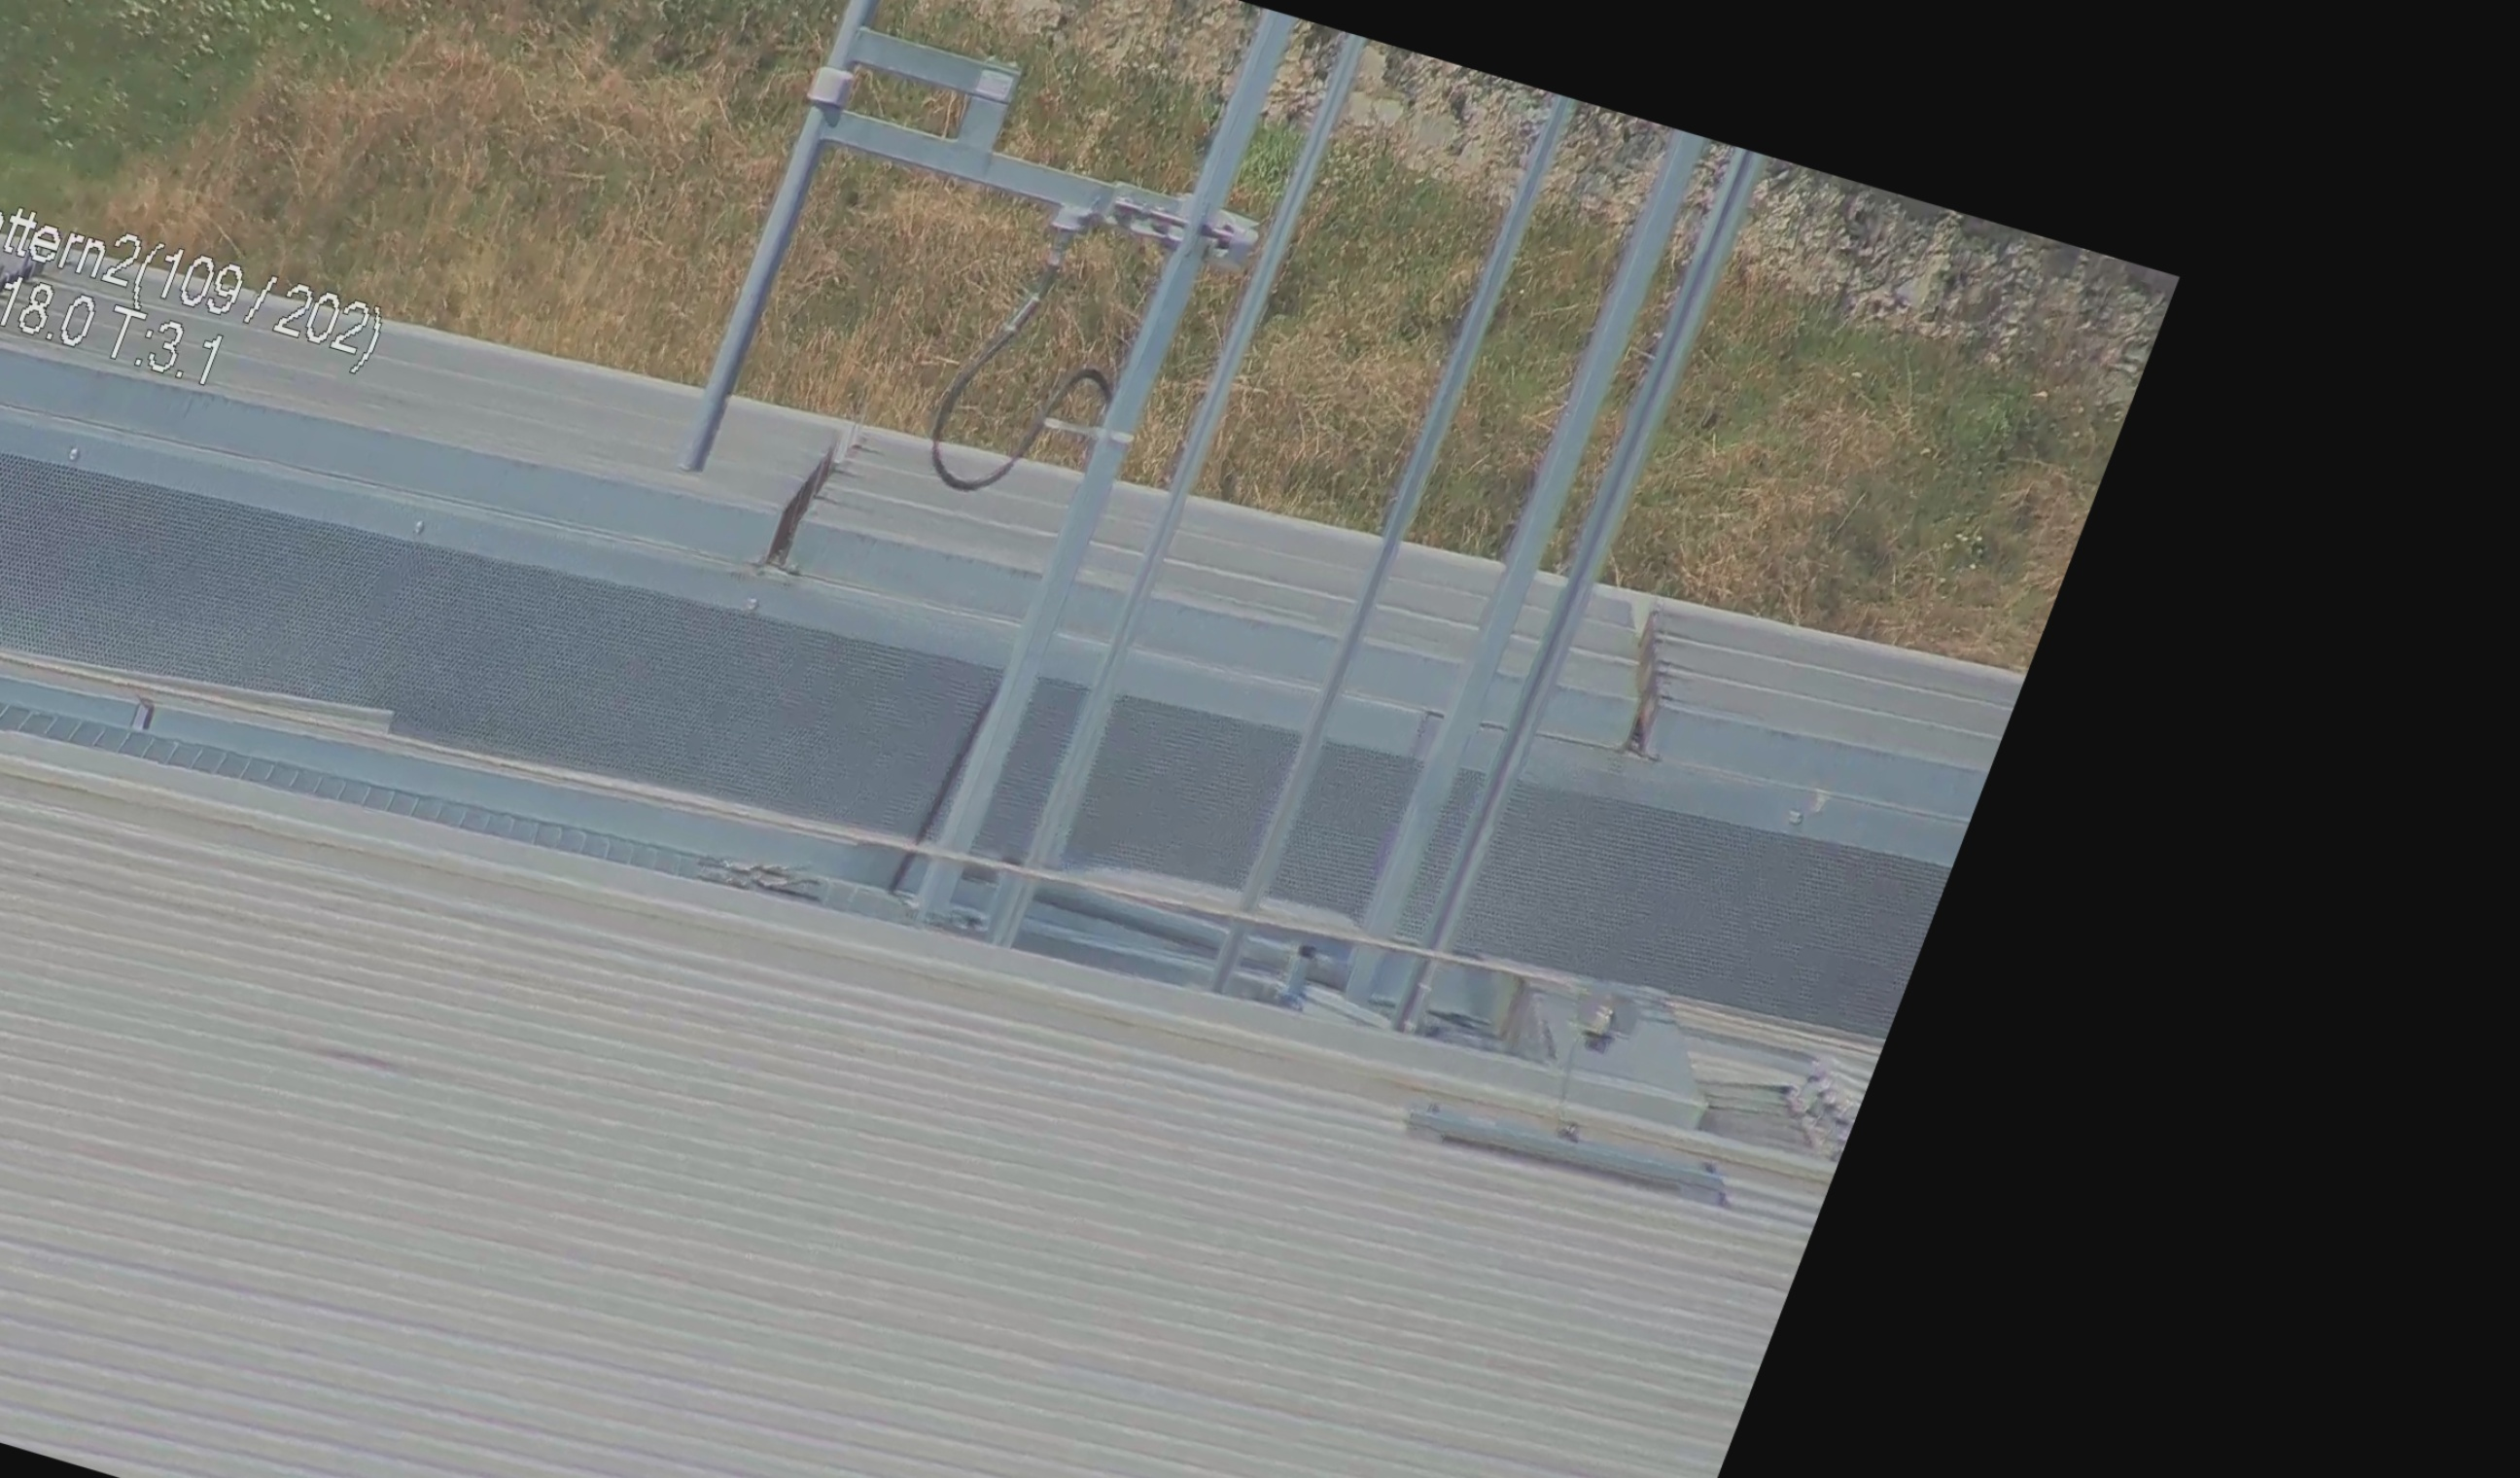Other: (747, 405, 870, 581)
